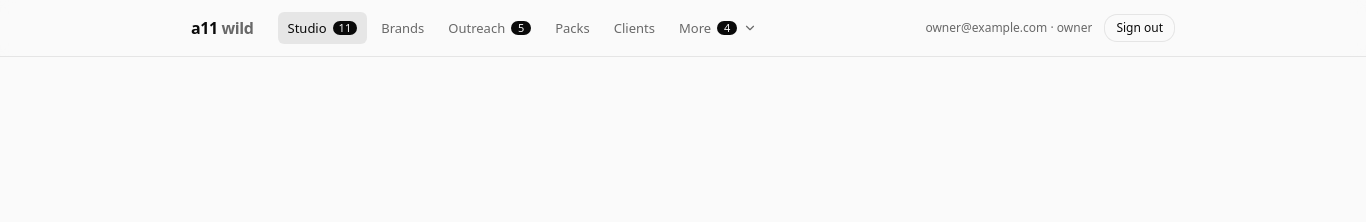
Shell › shows beside each section how many wait there, and nothing at zero
Expected: the link "Clients" is shown, [614,19,655,37]
The button counts what waits behind it, and hands the numbers to the list when it opens.
Step 1. Click the button "More 4" → {"x": 718, "y": 28}, box [669,12,767,44]
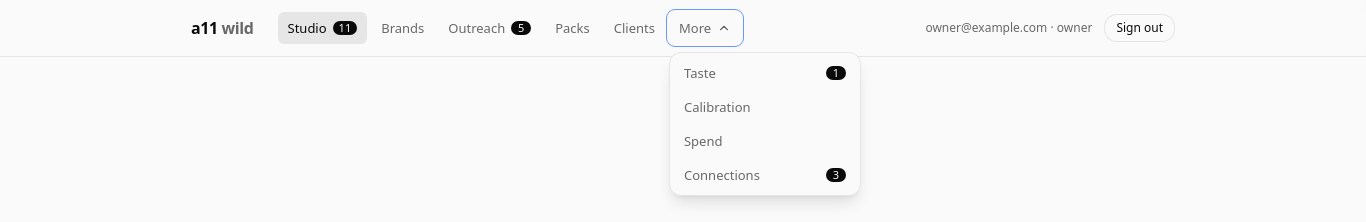
Expected: the link "Spend" is shown, [684,132,722,150]
